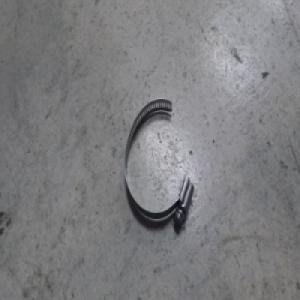AdjustableClamp: (123, 96, 194, 224)
